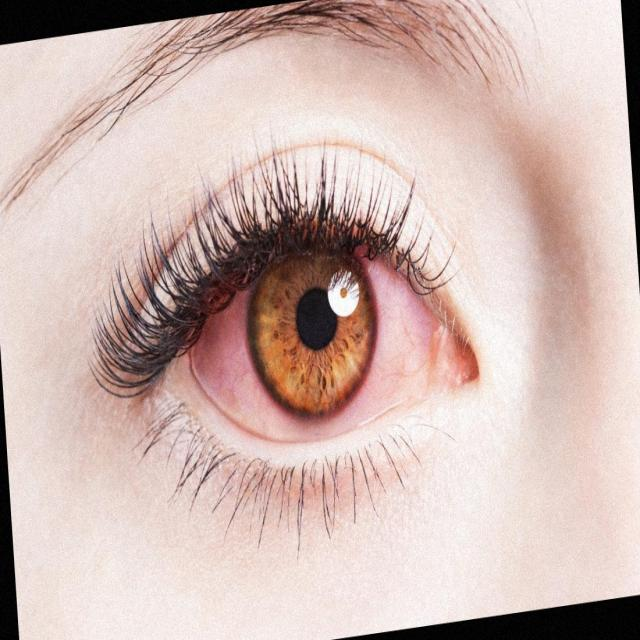Keratitis: (123, 160, 505, 497)
